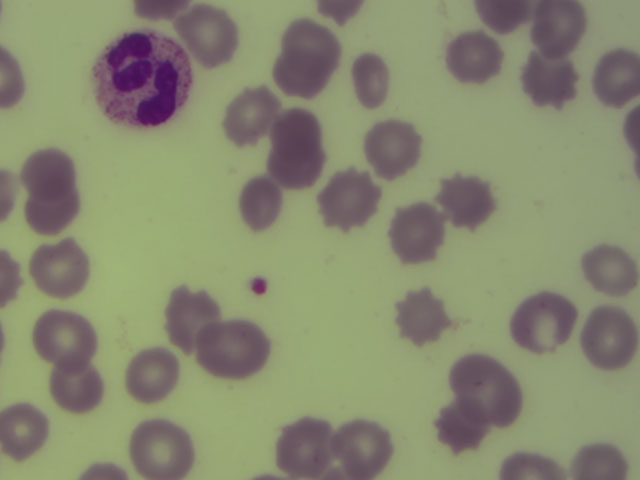Platelets: (251, 273, 267, 294)
RBC: (449, 347, 521, 425), (195, 315, 273, 381), (128, 411, 202, 480), (505, 292, 578, 353), (179, 4, 242, 65), (326, 419, 393, 476), (32, 308, 101, 362), (317, 168, 377, 230), (581, 305, 640, 368), (441, 168, 499, 230), (520, 48, 576, 111), (387, 201, 445, 261), (391, 286, 448, 347), (32, 235, 87, 296), (364, 121, 421, 178), (583, 232, 637, 292), (238, 177, 293, 233), (223, 87, 276, 144), (277, 416, 330, 473), (167, 288, 220, 345), (127, 344, 180, 401), (434, 394, 487, 451), (1, 399, 52, 458), (19, 146, 80, 195), (29, 181, 90, 230), (591, 48, 639, 110), (446, 29, 502, 82), (528, 1, 586, 52), (47, 363, 103, 413), (575, 437, 631, 480), (504, 445, 567, 480), (349, 56, 389, 110), (271, 109, 324, 148), (471, 1, 532, 31), (1, 46, 26, 111), (1, 252, 26, 306), (620, 108, 640, 172), (317, 1, 369, 24), (81, 456, 127, 480), (1, 168, 23, 217), (132, 1, 176, 24)
WBC: (92, 33, 191, 128)
